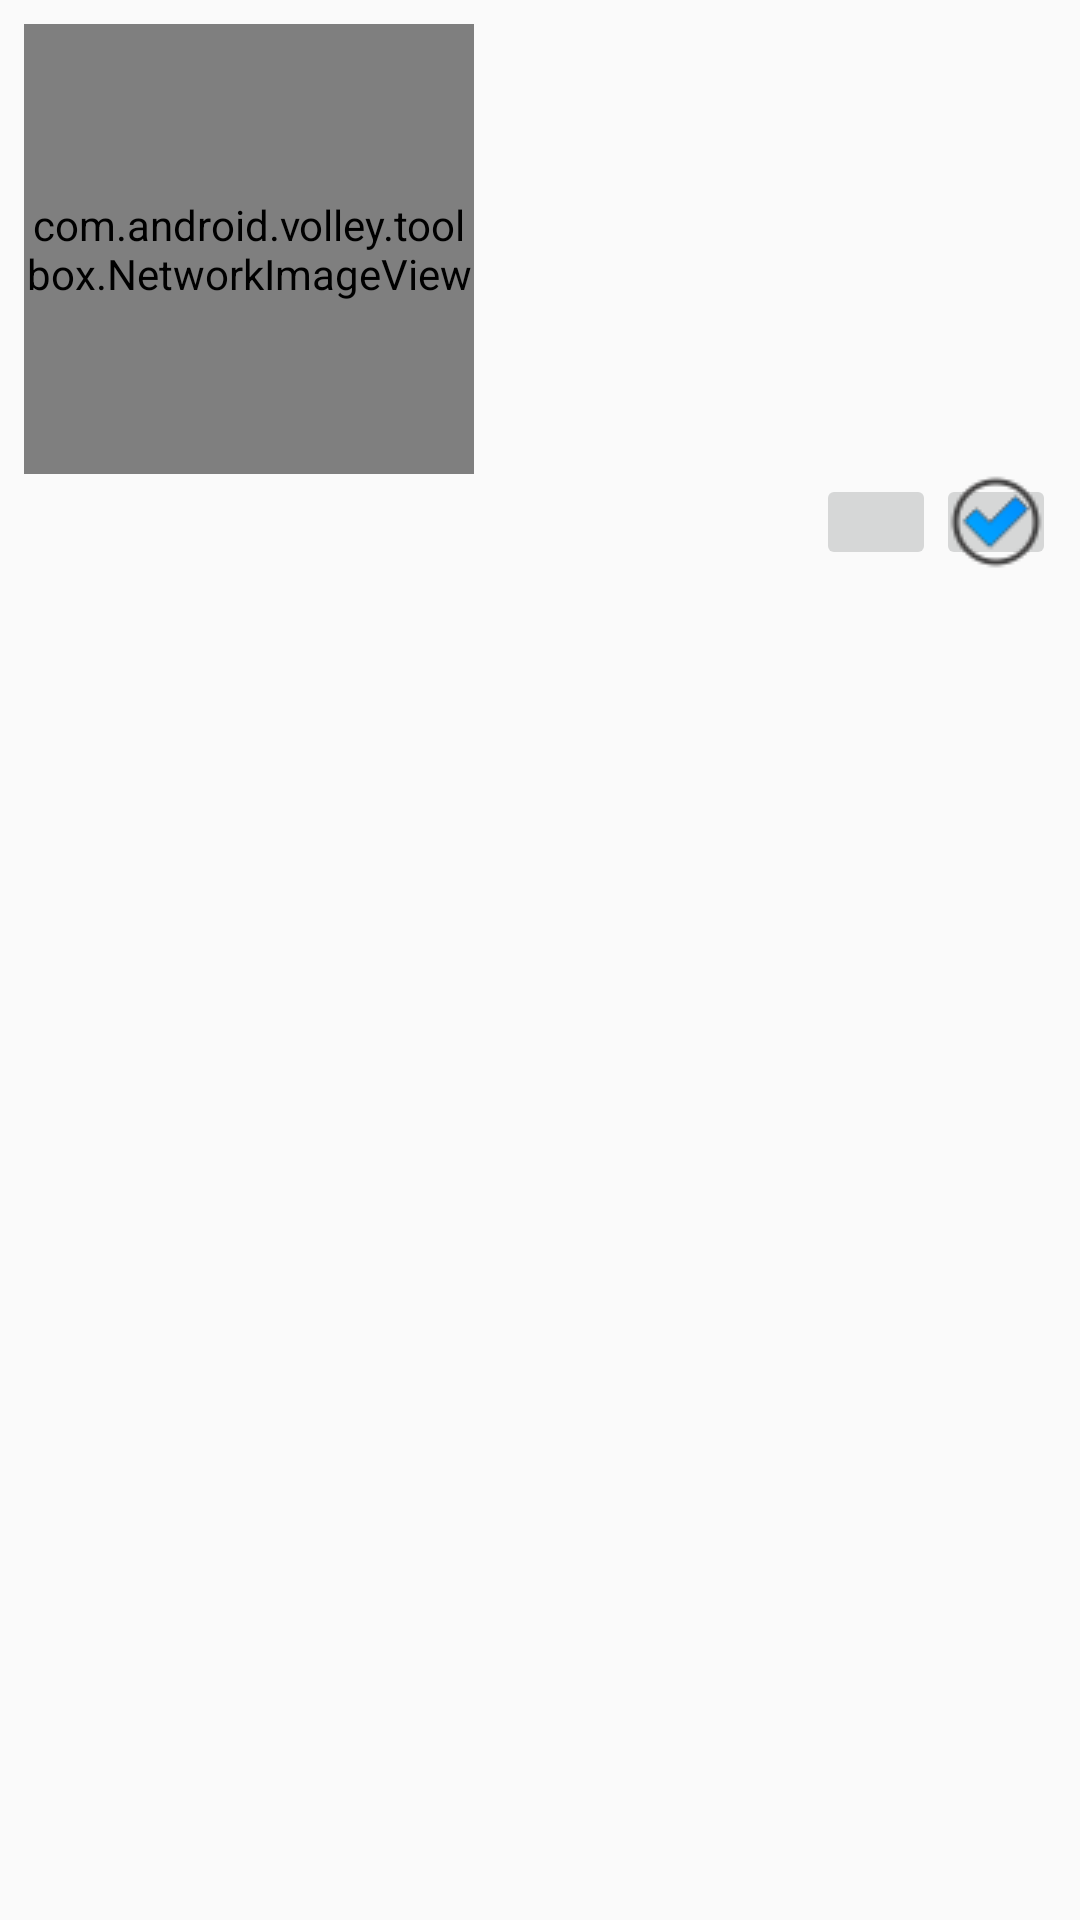

Locate icon controls on the screen. Image size 1080px x 1920px, boxes as (x1, y1, x2, y2).
accept: (948, 477, 1044, 567)
